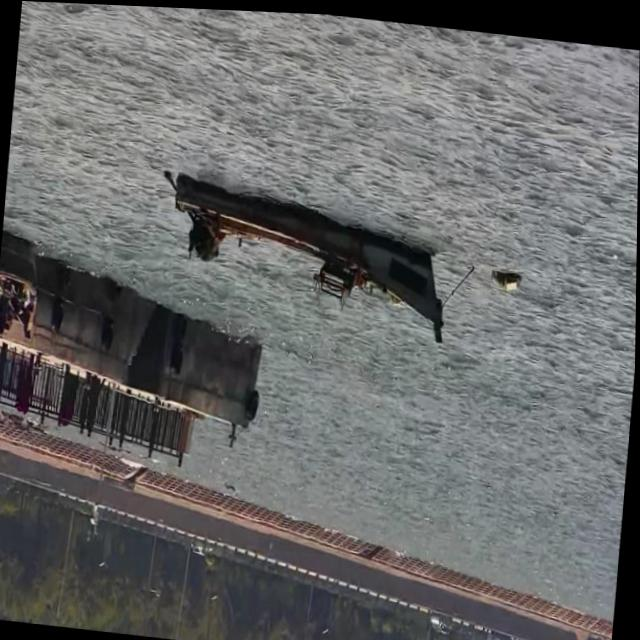ship2: (163, 170, 443, 338)
